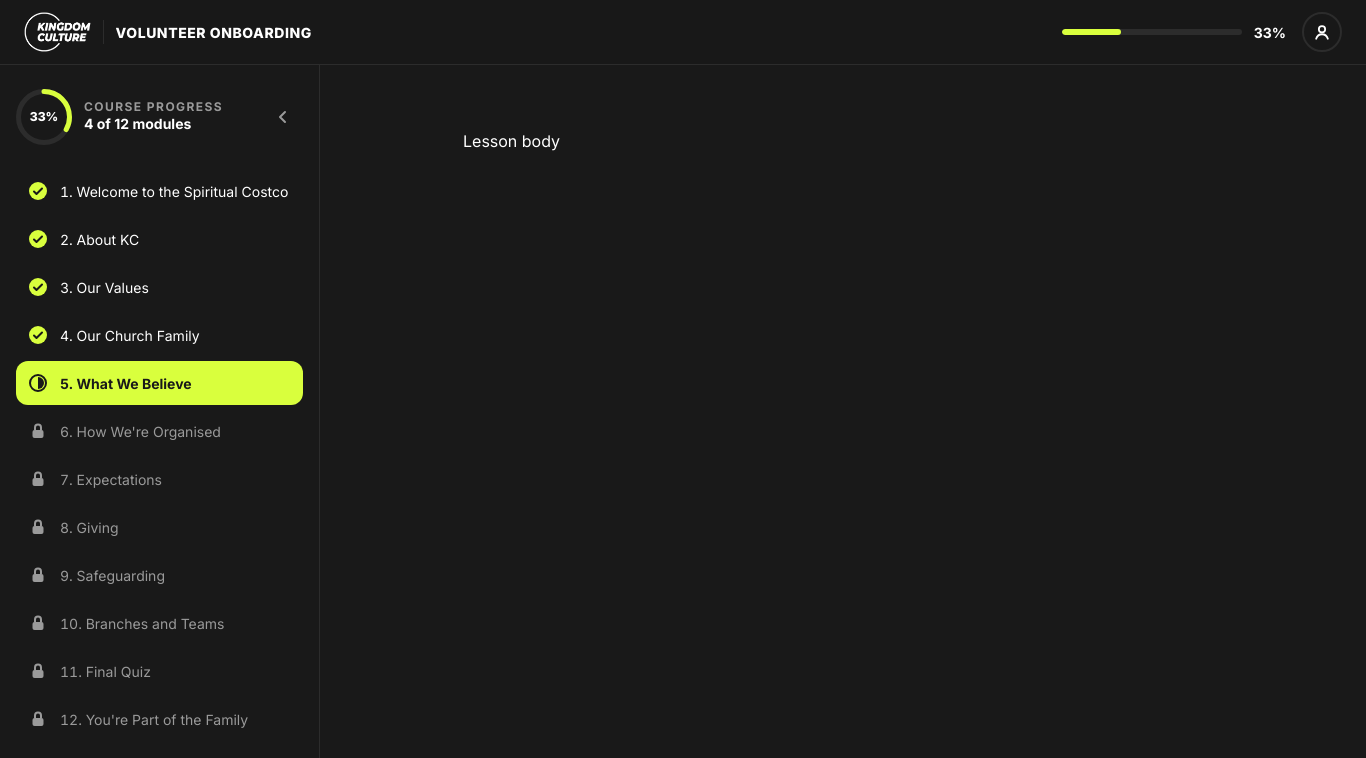
it: CourseLayout › remembers the collapsed sidebar in localStorage
Click the button named "Collapse module list": (283, 117) left=263, top=97, right=303, bottom=137
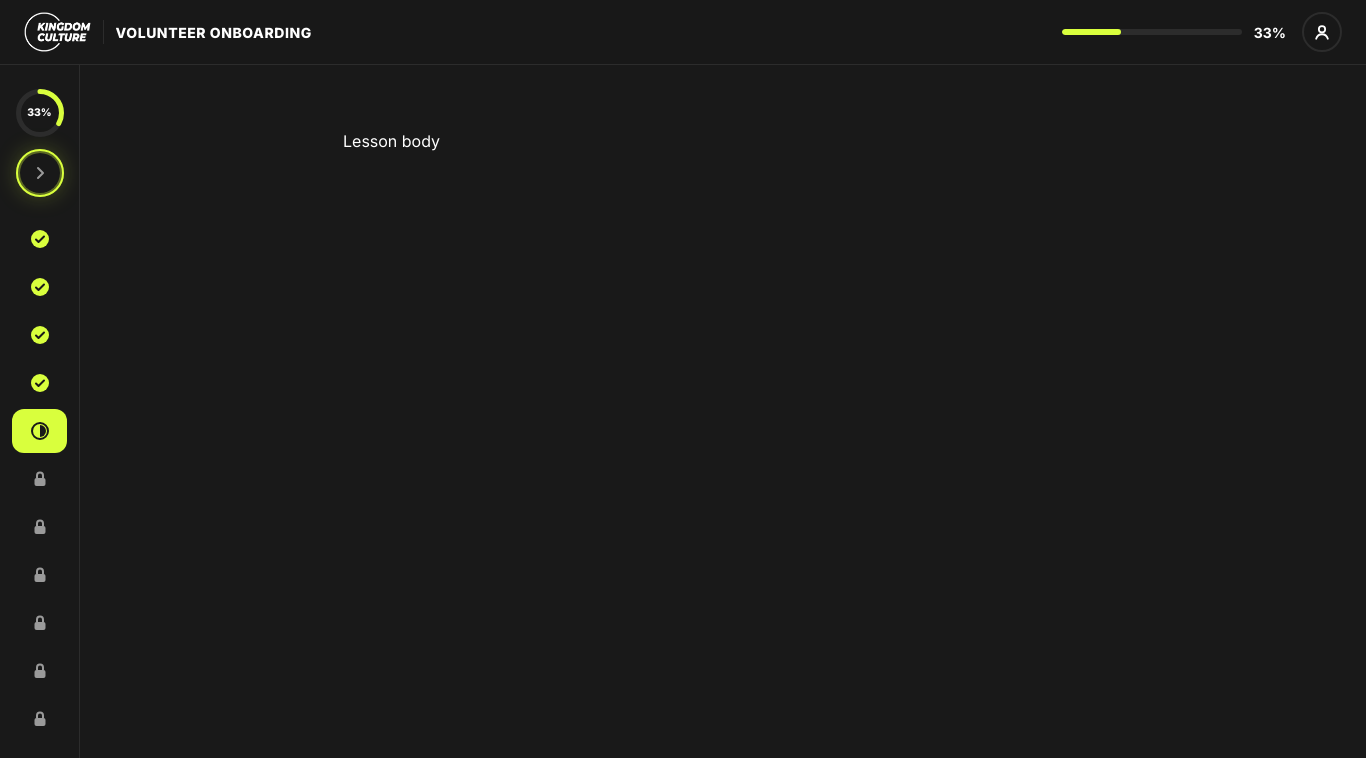
Result: the button named "Expand module list" is collapsed at left=20, top=153, right=60, bottom=193
